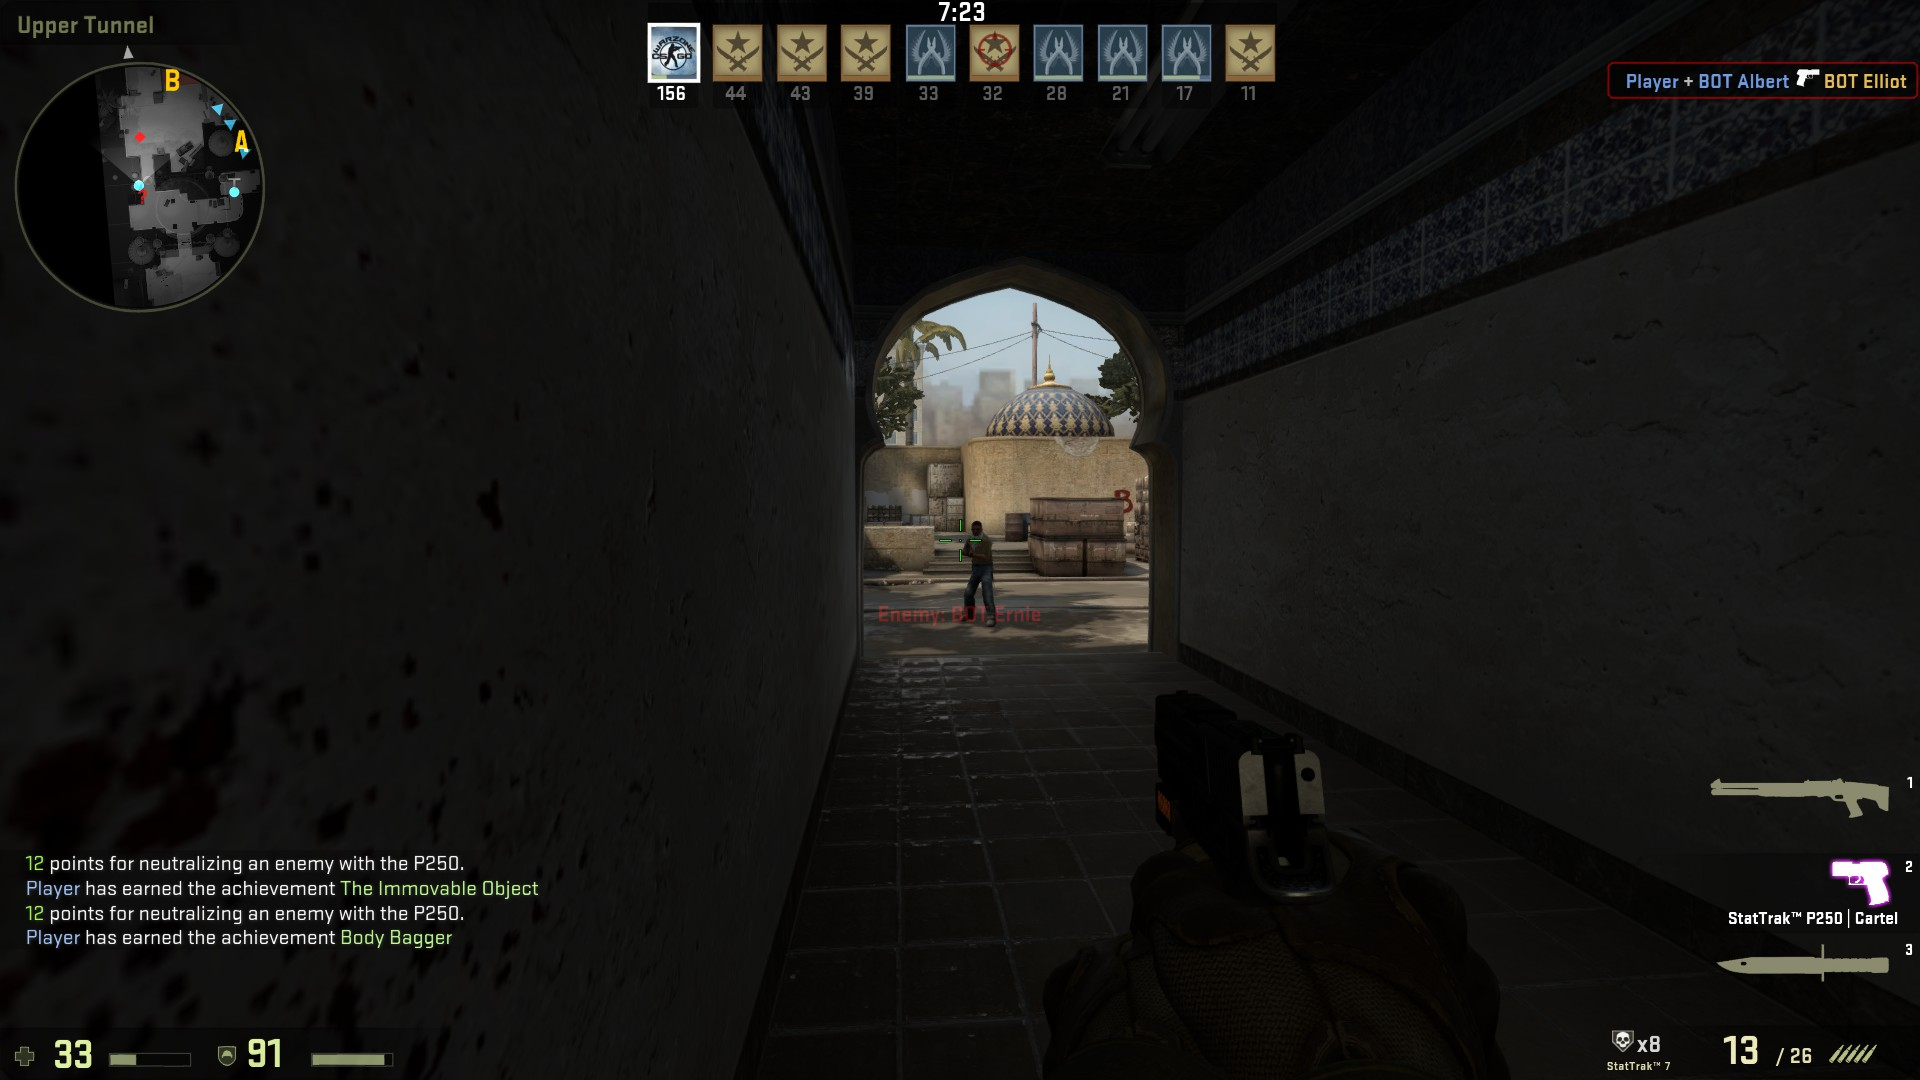t: (959, 520, 997, 626)
th: (965, 521, 988, 541)
